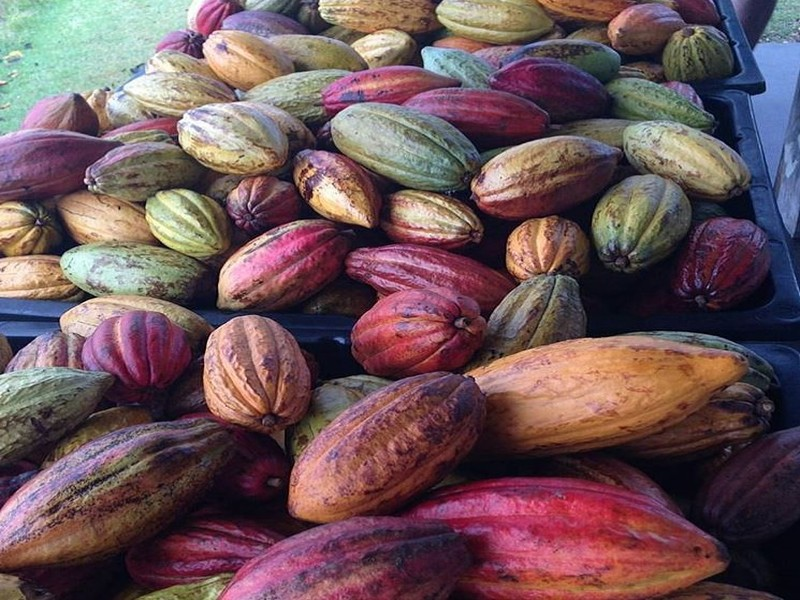Cacaopod: (289, 367, 480, 518), (175, 102, 290, 172)
